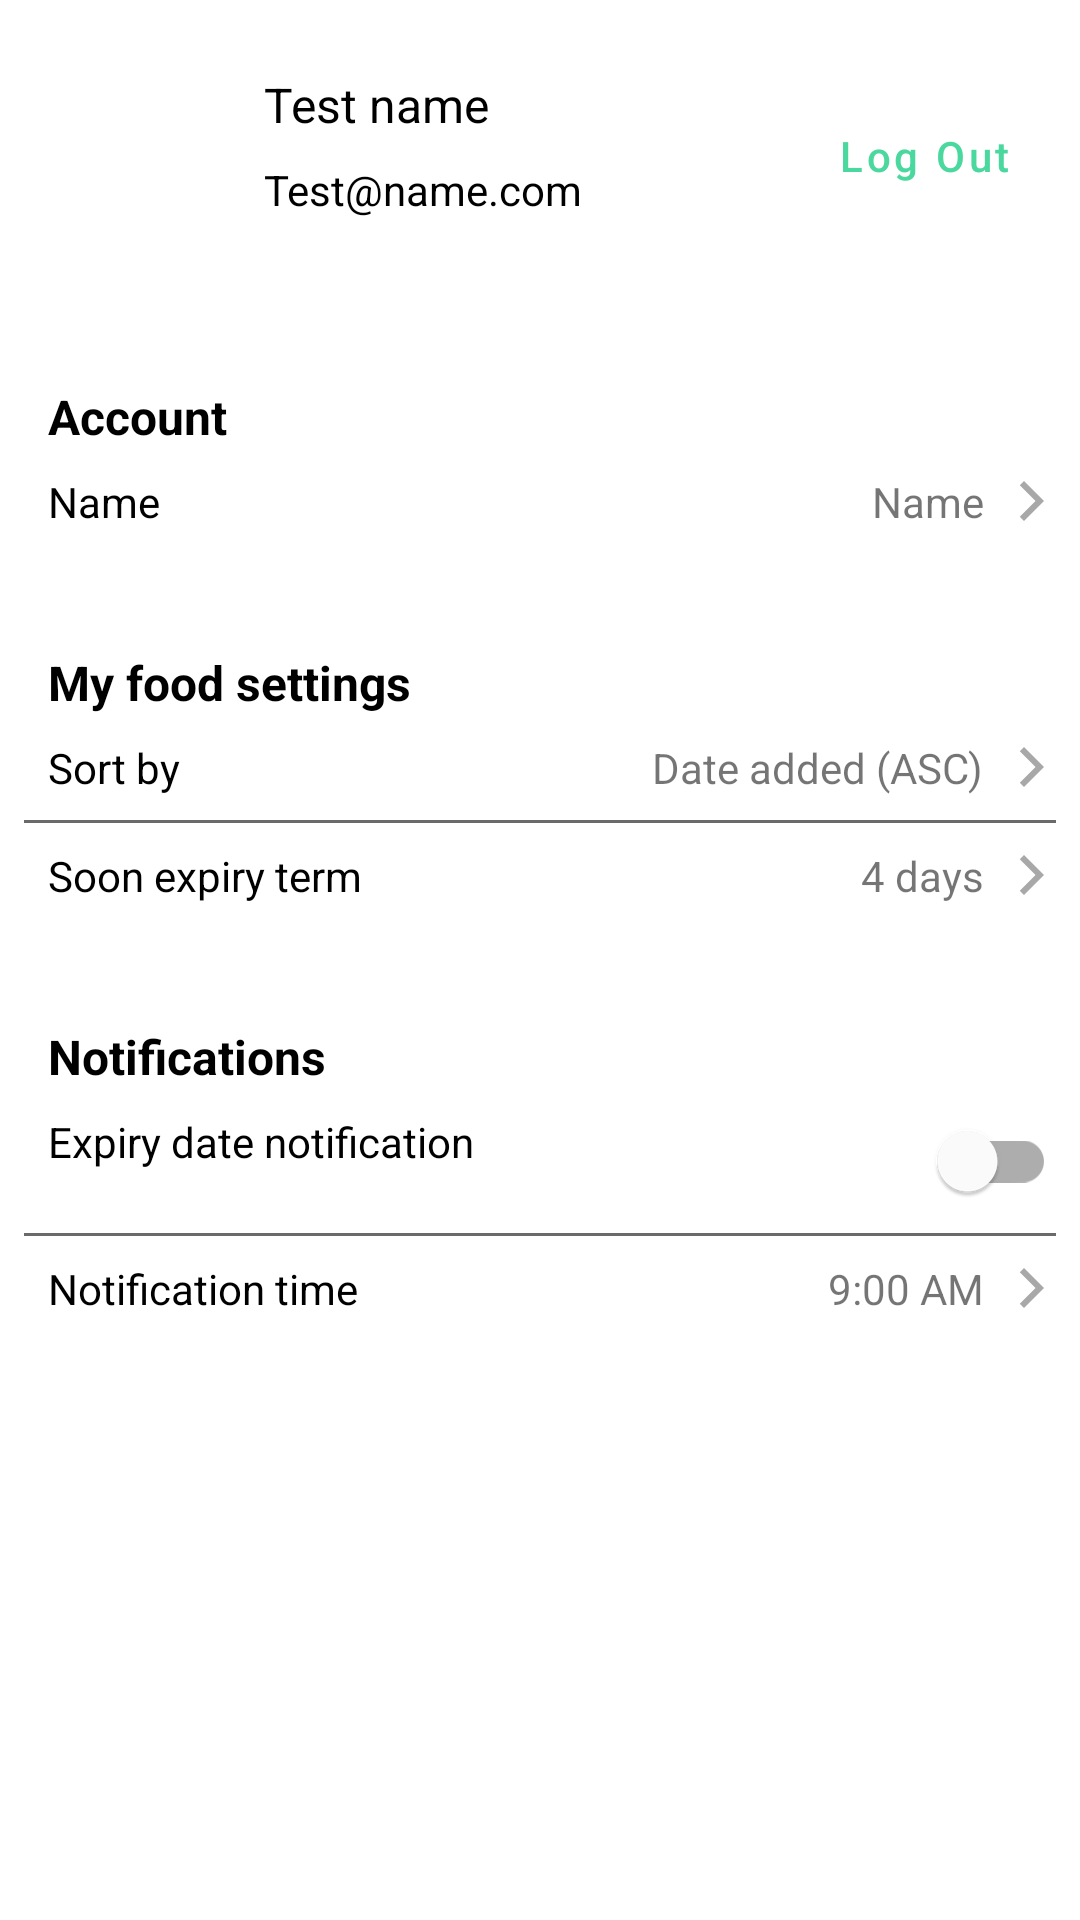

Icon bounding boxes for this 1080w x 1920h phone screenshot, format (x1,y1,x2,y2):
arrow: (1020,481,1044,521), (1020,747,1044,787), (1020,855,1044,895), (1020,1268,1044,1308)
